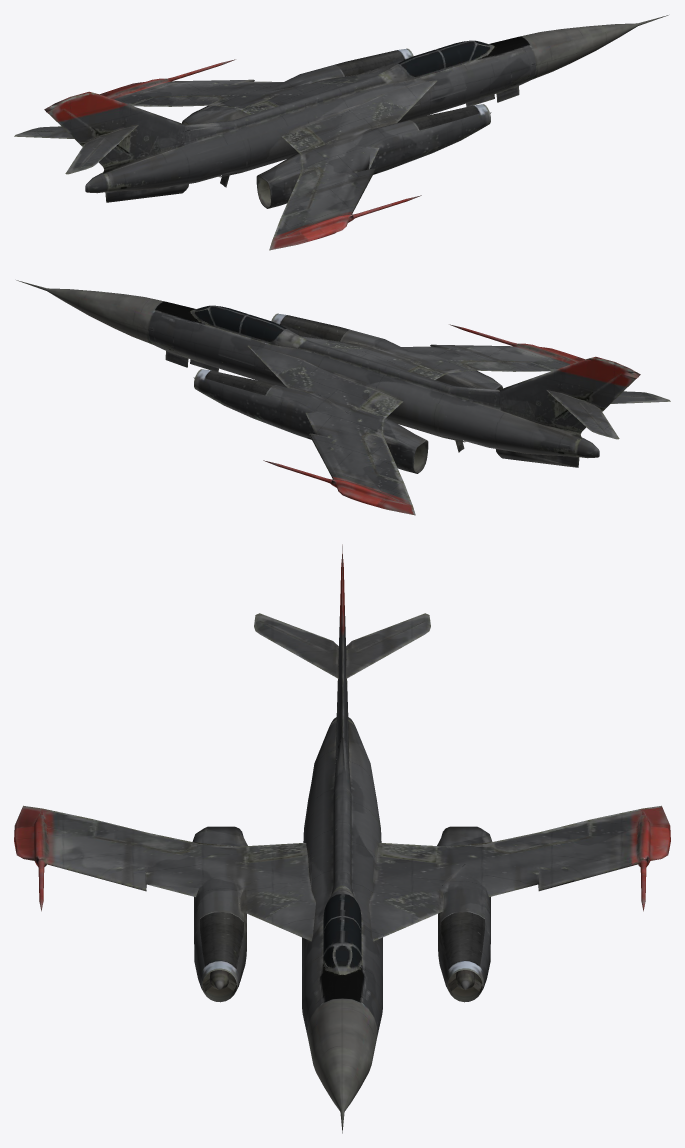
The model's file is fh_battle_e_carrier.glb.
3 views of the same model, one above another, from view 1: azimuth 30°, elevation 25°; view 2: azimuth 150°, elevation 25°; view 3: azimuth 270°, elevation 25° (orthographic). The views are drawn at different scales.
Parts seen in each view (by area): view 1: carrier; view 2: carrier; view 3: carrier.
Boxes of the visible parts, x1,y1,x2,y2 form: carrier: (14, 15, 668, 250); carrier: (16, 280, 670, 515); carrier: (14, 544, 670, 1133).
Bounding box in the file's own units: 1 × 0.1918 × 0.5562.
Materials: 2 (2 with a texture image).
